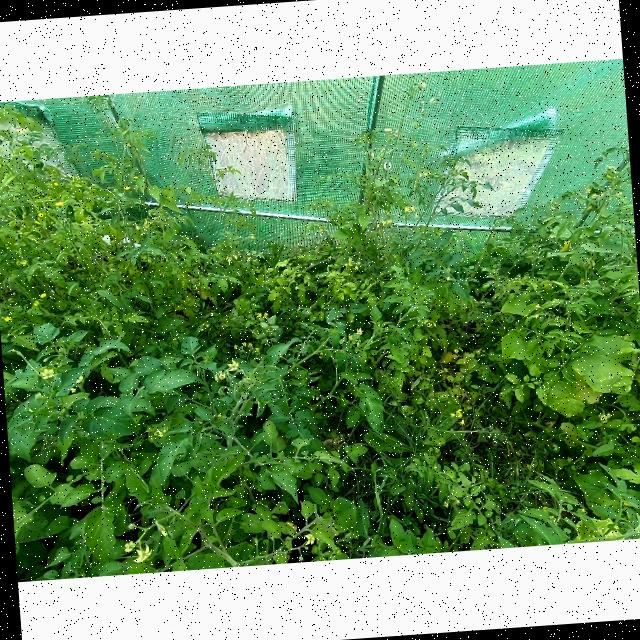Flowers: (132, 545, 152, 565), (39, 367, 53, 381), (154, 522, 166, 537), (302, 532, 314, 545), (226, 359, 238, 372), (123, 540, 134, 554), (0, 314, 14, 324), (213, 370, 226, 380), (422, 320, 435, 330), (156, 426, 168, 436), (143, 218, 153, 230), (403, 205, 418, 212), (16, 258, 29, 266), (74, 374, 84, 384), (419, 170, 431, 178), (14, 126, 26, 134), (591, 192, 605, 198), (66, 386, 76, 393), (381, 219, 392, 225), (355, 326, 363, 334), (455, 410, 463, 418), (532, 312, 540, 320), (352, 262, 360, 270), (347, 257, 353, 267), (54, 201, 64, 207), (392, 130, 398, 138), (442, 500, 448, 507), (534, 304, 541, 310), (124, 142, 131, 148), (33, 300, 39, 306), (40, 292, 46, 298), (449, 412, 455, 418), (453, 499, 459, 505), (414, 212, 420, 218), (123, 186, 132, 190), (233, 253, 238, 260), (246, 253, 251, 260), (264, 312, 269, 318), (460, 418, 465, 424), (248, 234, 254, 239), (225, 256, 230, 262), (369, 152, 374, 158), (382, 210, 389, 214), (241, 341, 246, 346), (232, 344, 238, 348), (258, 312, 262, 318), (348, 334, 352, 340), (584, 188, 590, 192), (38, 212, 44, 216), (384, 128, 390, 132), (380, 147, 384, 153), (256, 347, 260, 352), (136, 224, 140, 229), (446, 276, 450, 280), (248, 342, 251, 346), (54, 182, 58, 185), (133, 176, 138, 178), (378, 156, 382, 158)
